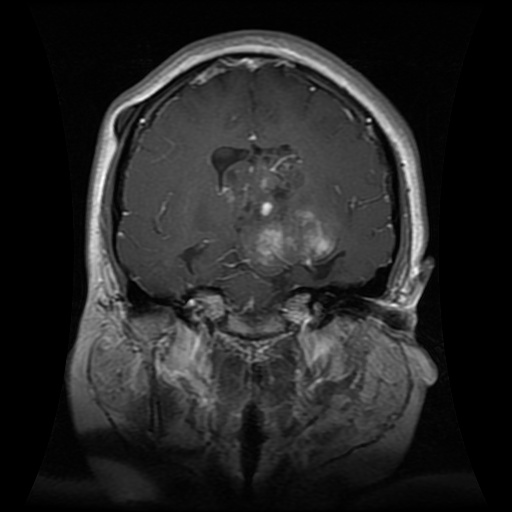glioma: (209, 141, 345, 275)
